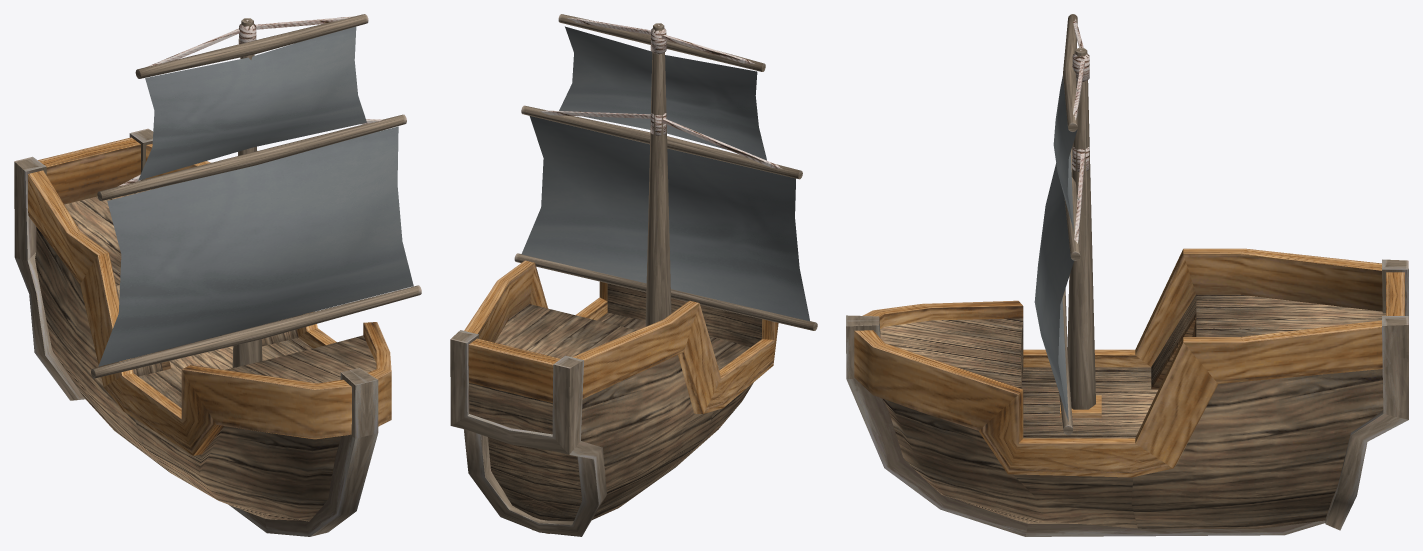
Rendered from TransportShip.fbx.
The picture shows the model from 3 angles, left to right: view 1: azimuth 30°, elevation 25°; view 2: azimuth 150°, elevation 25°; view 3: azimuth 270°, elevation 25°; orthographic projection. The views are drawn at different scales.
Parts seen in each view (by area): view 1: TransportShip; view 2: TransportShip; view 3: TransportShip.
Boxes of the visible parts, x1=… form: TransportShip: x1=14, y1=14, x2=421, y2=536; TransportShip: x1=450, y1=14, x2=817, y2=536; TransportShip: x1=846, y1=14, x2=1408, y2=536.
Bounding box in the file's own units: 468 × 664 × 702.
